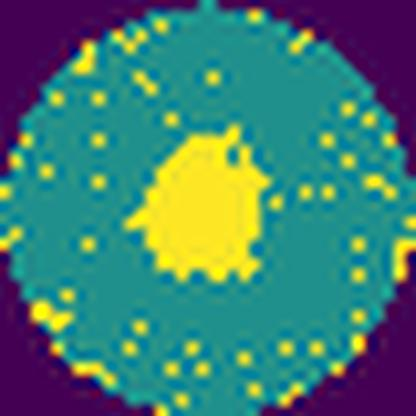Center: (120, 124, 274, 284)
